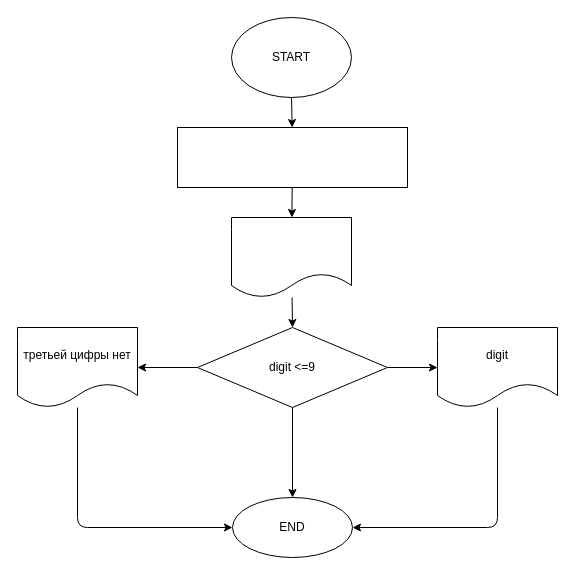
This 575x575 diagram has some shape labels left out. Here are the shapes that lost their labels. From the top down, the centre of each, then its label:
point 292,157: value = Random () indexValue = 2 digit
point 291,257: value
